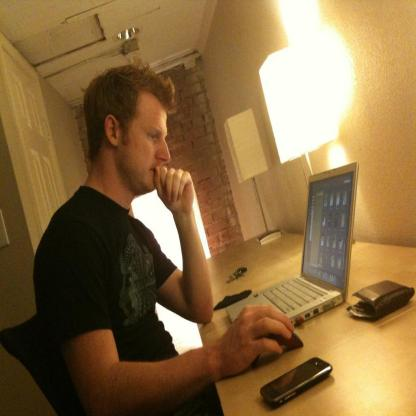board: (214, 172, 358, 344)
